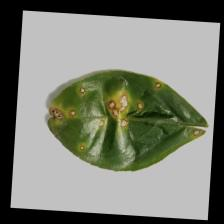canker: (48, 82, 146, 151)
